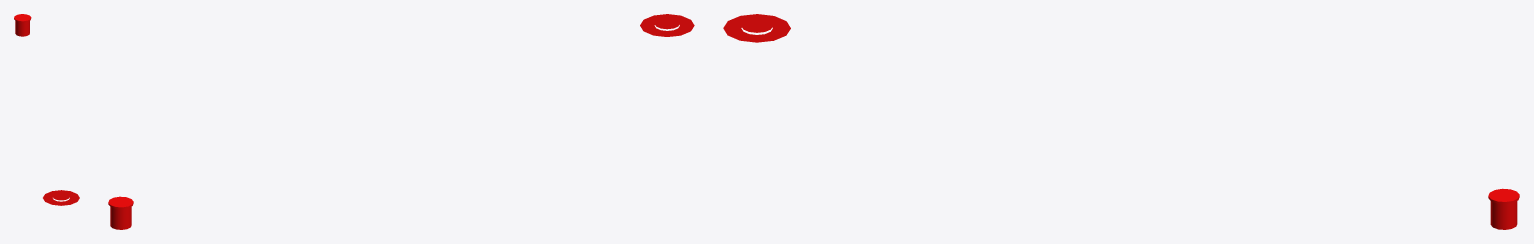
3 views of the same model, side by side, from view 1: azimuth 30°, elevation 25°; view 2: azimuth 150°, elevation 25°; view 3: azimuth 270°, elevation 25° (orthographic). The views are drawn at different scales.
Parts seen in each view (by area): view 1: 74_1, 84; view 2: 74_1, 84; view 3: 74_1, 84.
Boxes of the visible parts, <box> form: 74_1: <box>43,190,79,205</box>; 84: <box>14,14,31,36</box>; 74_1: <box>640,14,694,36</box>; 84: <box>108,196,133,229</box>; 74_1: <box>723,14,790,42</box>; 84: <box>1488,188,1519,229</box>.
Size of the model in its own units: 8.67 by 1.2 by 17.28.
